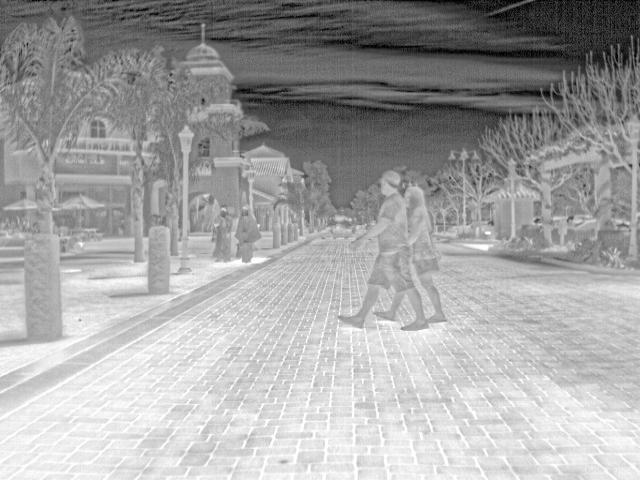car: (615, 218, 631, 230), (570, 215, 587, 226), (483, 224, 495, 236), (583, 220, 597, 230)
person: (374, 167, 410, 331), (408, 183, 444, 323), (212, 204, 236, 264), (238, 202, 259, 262)
